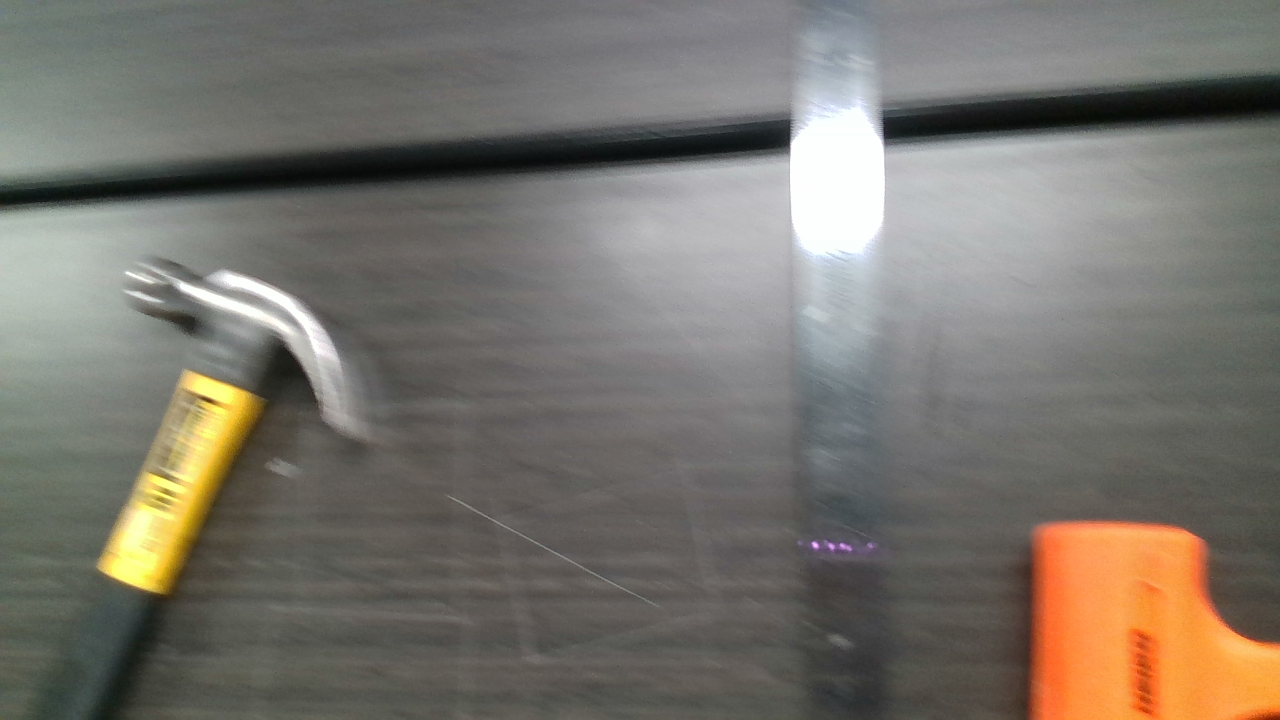Orange Hammer: (1029, 516, 1280, 720)
